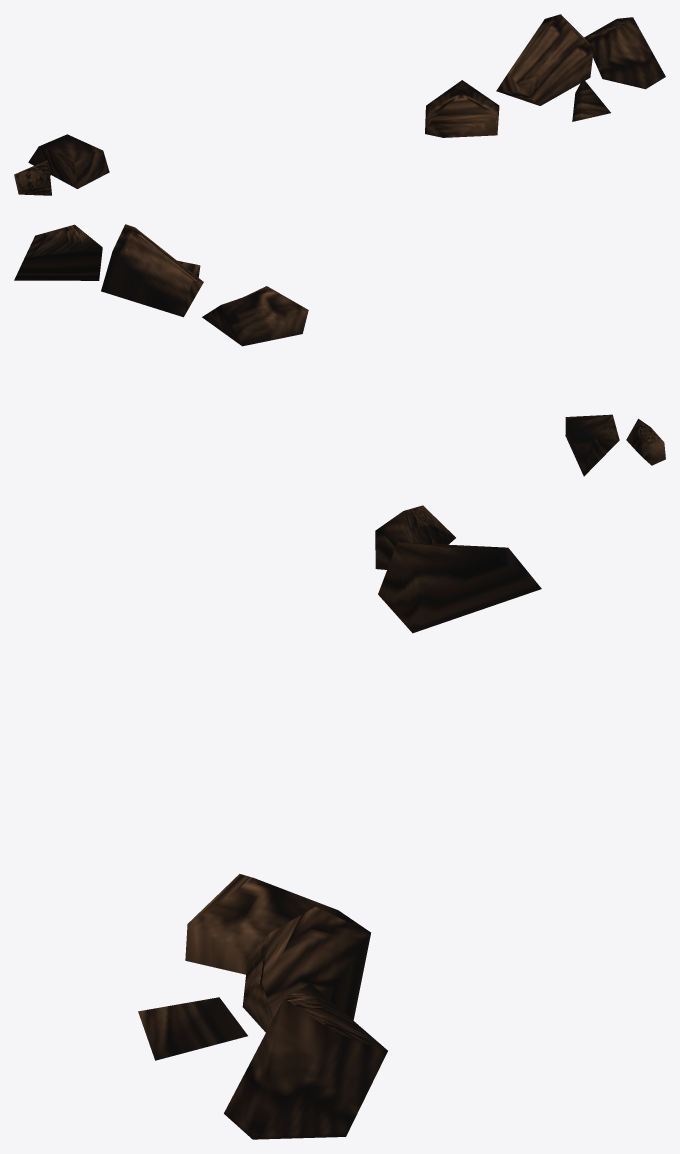
File: test-broken_statue-opt.glb
3 views of the same model, one above another, from view 1: azimuth 30°, elevation 25°; view 2: azimuth 150°, elevation 25°; view 3: azimuth 270°, elevation 25° (orthographic). The views are drawn at different scales.
Visible parts, largest first — view 1: broken_statue; view 2: broken_statue; view 3: broken_statue.
Boxes of the visible parts, x1,y1,x2,y2 form: broken_statue: (14,14,665,195); broken_statue: (14,224,665,476); broken_statue: (138,505,541,1139).
Size of the model in its own units: 98.78 by 11.44 by 28.13.
Materials: 2 (2 with a texture image).
